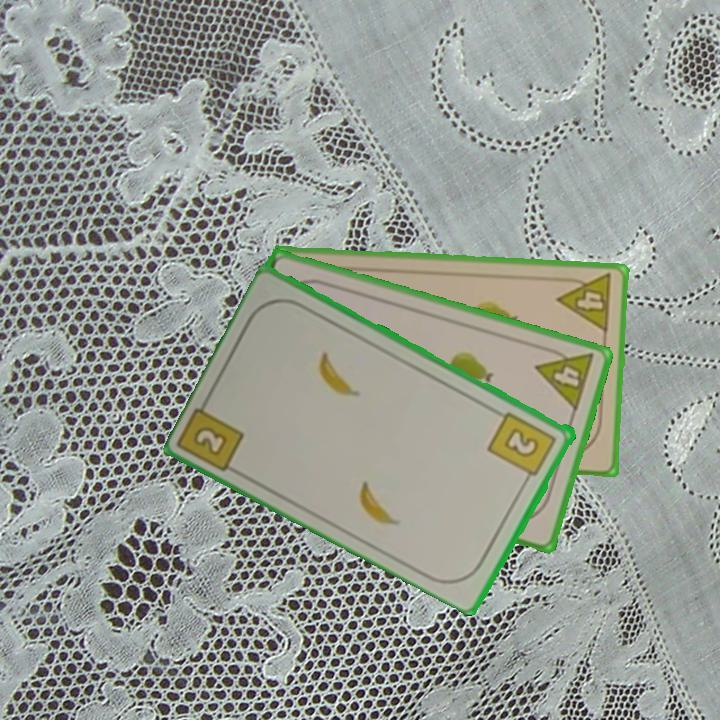2b: (485, 408, 560, 486), (190, 422, 232, 459)
4p: (532, 341, 598, 414), (554, 270, 615, 336)
